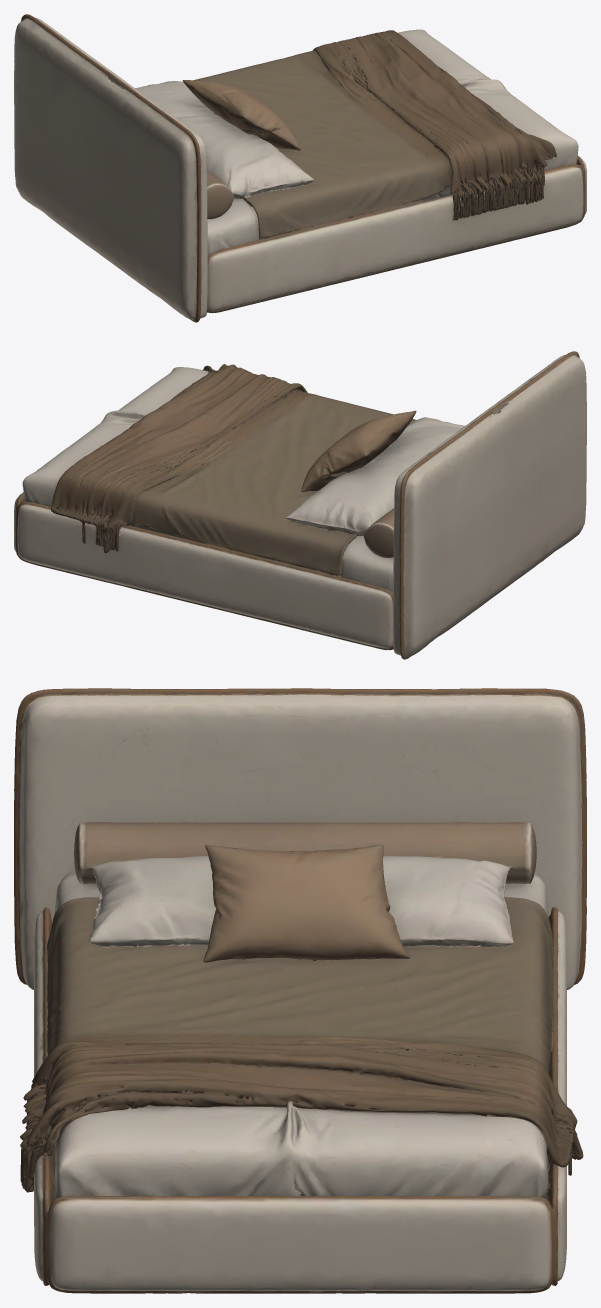
Rendered from item-12.glb.
The picture shows the model from 3 angles, top to bottom: view 1: azimuth 30°, elevation 25°; view 2: azimuth 150°, elevation 25°; view 3: azimuth 270°, elevation 25°; orthographic projection. The views are drawn at different scales.
Parts seen in each view (by area): view 1: geometry_0; view 2: geometry_0; view 3: geometry_0.
Boxes of the visible parts, <box> form: geometry_0: <box>14,14,586,322</box>; geometry_0: <box>14,351,586,659</box>; geometry_0: <box>14,688,586,1293</box>.
Size of the model in its own units: 0.7547 by 0.3268 by 0.5675.
Materials: 1 (1 with a texture image).
